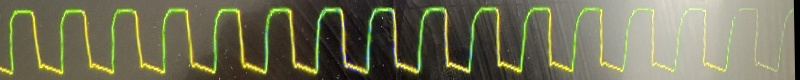normal_pressure: (0, 0, 780, 78)
